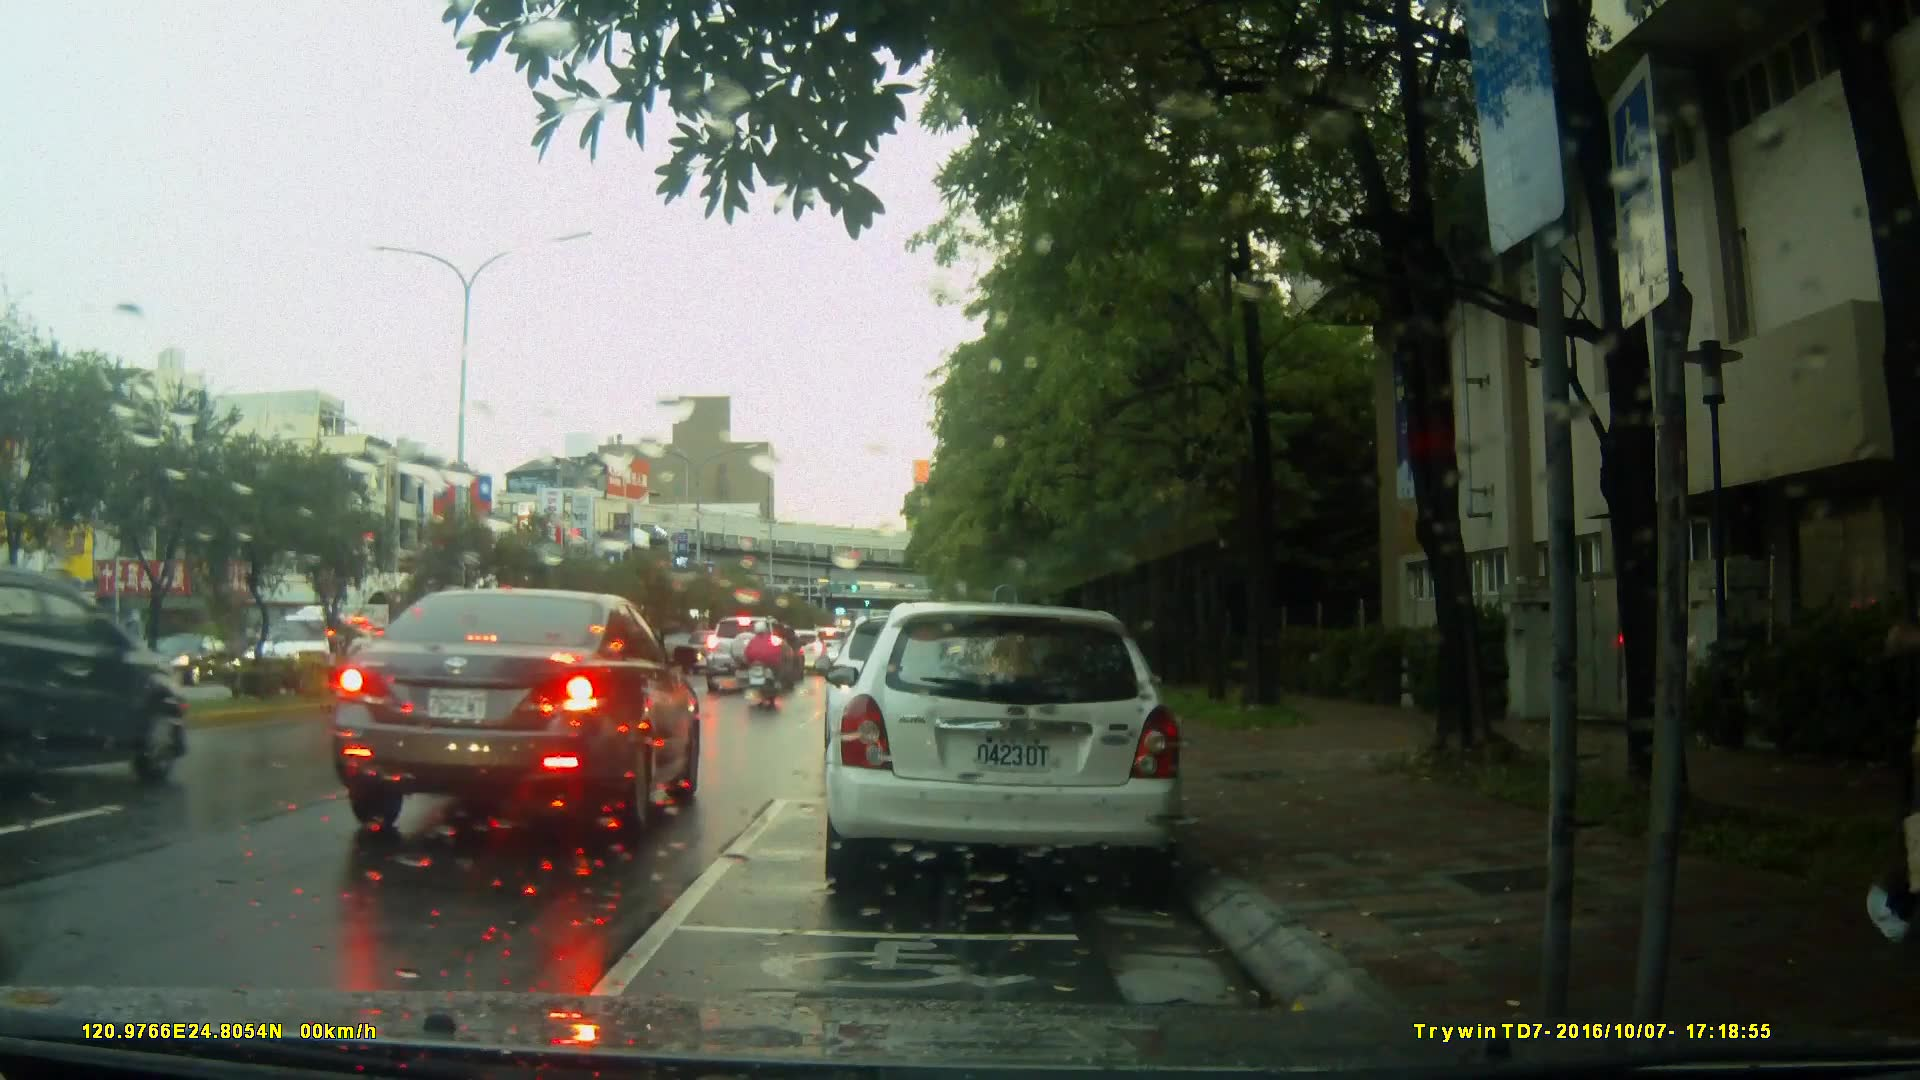pedestrian: (1858, 493, 1920, 962)
rider: (744, 619, 784, 717)
vehicle: (820, 602, 1188, 898), (326, 586, 706, 846), (1, 570, 192, 805), (706, 616, 797, 695)
